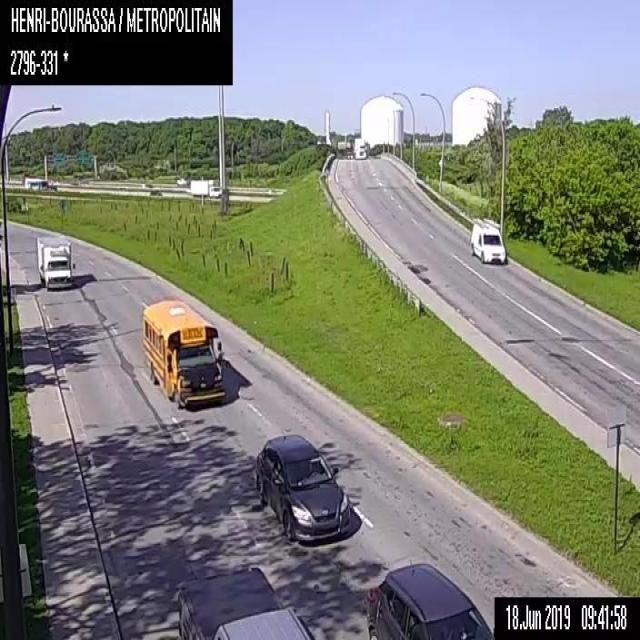bus: (139, 296, 226, 405), (25, 176, 47, 189)
vehicle: (253, 431, 350, 544), (176, 562, 314, 638), (362, 560, 493, 639), (35, 233, 75, 290), (470, 218, 506, 262), (188, 176, 220, 196), (355, 137, 367, 158), (174, 176, 186, 187), (347, 150, 352, 159)
